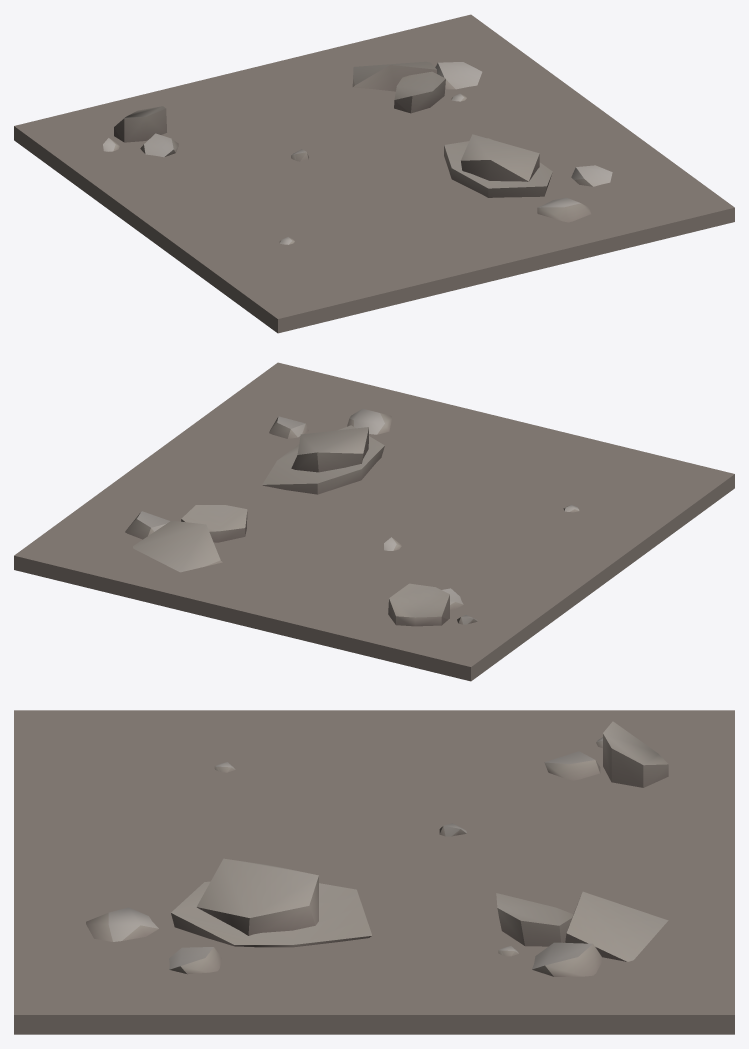
Rendered from floor_dirt_large_rocky.glb.
The picture shows the model from 3 angles, top to bottom: view 1: azimuth 30°, elevation 25°; view 2: azimuth 150°, elevation 25°; view 3: azimuth 270°, elevation 25°; orthographic projection. The views are drawn at different scales.
Parts seen in each view (by area): view 1: floor_dirt_large_rocky; view 2: floor_dirt_large_rocky; view 3: floor_dirt_large_rocky.
Part boxes in pixels (box(x1,y1,x2,y2)): floor_dirt_large_rocky: box(14, 14, 734, 333); floor_dirt_large_rocky: box(14, 362, 734, 681); floor_dirt_large_rocky: box(14, 710, 734, 1034).
Bounding box in the file's own units: 4 × 0.3926 × 4.
1 material, 1 textured.
